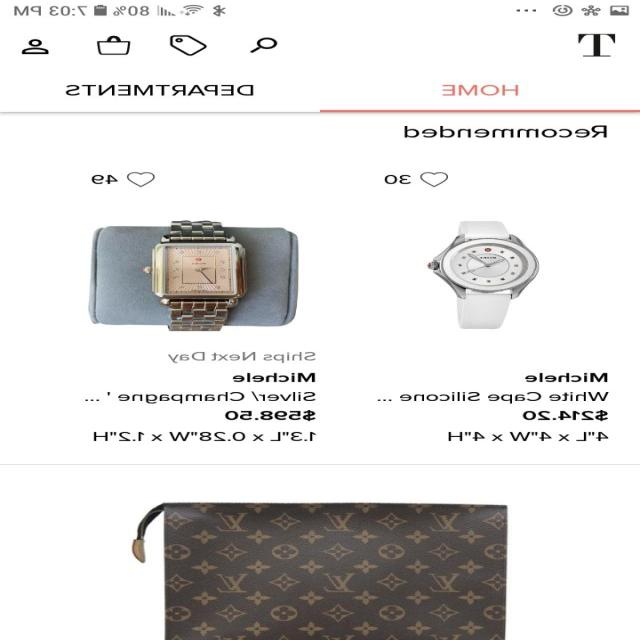Icon: (170, 35, 208, 56), (96, 36, 132, 55), (127, 172, 156, 187), (421, 171, 448, 187), (22, 39, 50, 54), (250, 38, 278, 53)
Image: (132, 502, 508, 640), (88, 220, 300, 332), (426, 222, 540, 329)
Text: (377, 391, 611, 404), (86, 391, 316, 404), (404, 125, 608, 138), (94, 431, 318, 441), (66, 85, 254, 96), (168, 351, 316, 363), (448, 431, 610, 441), (225, 410, 318, 421), (523, 410, 609, 421), (578, 34, 616, 57), (442, 85, 520, 96), (524, 372, 608, 382), (232, 373, 316, 382), (384, 174, 412, 184), (93, 174, 119, 184)
